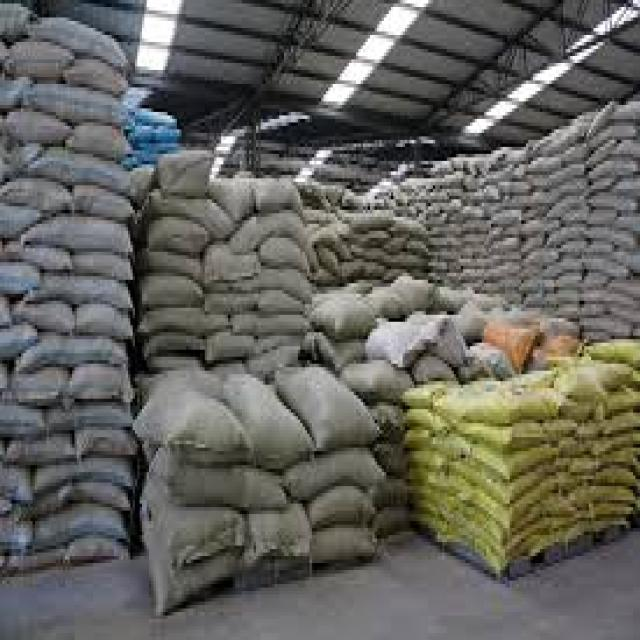cement_bag: (280, 360, 383, 446), (225, 369, 305, 457), (142, 391, 250, 452), (32, 13, 130, 70), (289, 444, 378, 502), (174, 469, 274, 509), (37, 510, 119, 556), (173, 515, 239, 570), (454, 395, 551, 429), (311, 484, 375, 528), (478, 445, 548, 485), (367, 320, 430, 364), (314, 290, 376, 333), (9, 107, 70, 150), (342, 357, 414, 393), (480, 320, 535, 367), (310, 523, 375, 562), (479, 487, 540, 526), (7, 238, 69, 275), (164, 148, 212, 195), (7, 180, 68, 216), (144, 305, 213, 336), (9, 371, 65, 408), (11, 436, 70, 470), (16, 300, 70, 336), (68, 63, 125, 97), (71, 127, 129, 160), (73, 253, 132, 285), (74, 370, 127, 403), (80, 426, 133, 458), (144, 281, 198, 310), (80, 310, 130, 341), (81, 190, 132, 220), (264, 238, 307, 273), (208, 252, 258, 280), (155, 223, 204, 251), (601, 388, 640, 423), (209, 329, 248, 363), (260, 185, 302, 216), (265, 291, 303, 318), (404, 409, 444, 434), (411, 448, 445, 474), (356, 227, 388, 252), (344, 262, 382, 281), (561, 140, 586, 166), (405, 392, 434, 411), (598, 472, 634, 486), (397, 255, 425, 267)
